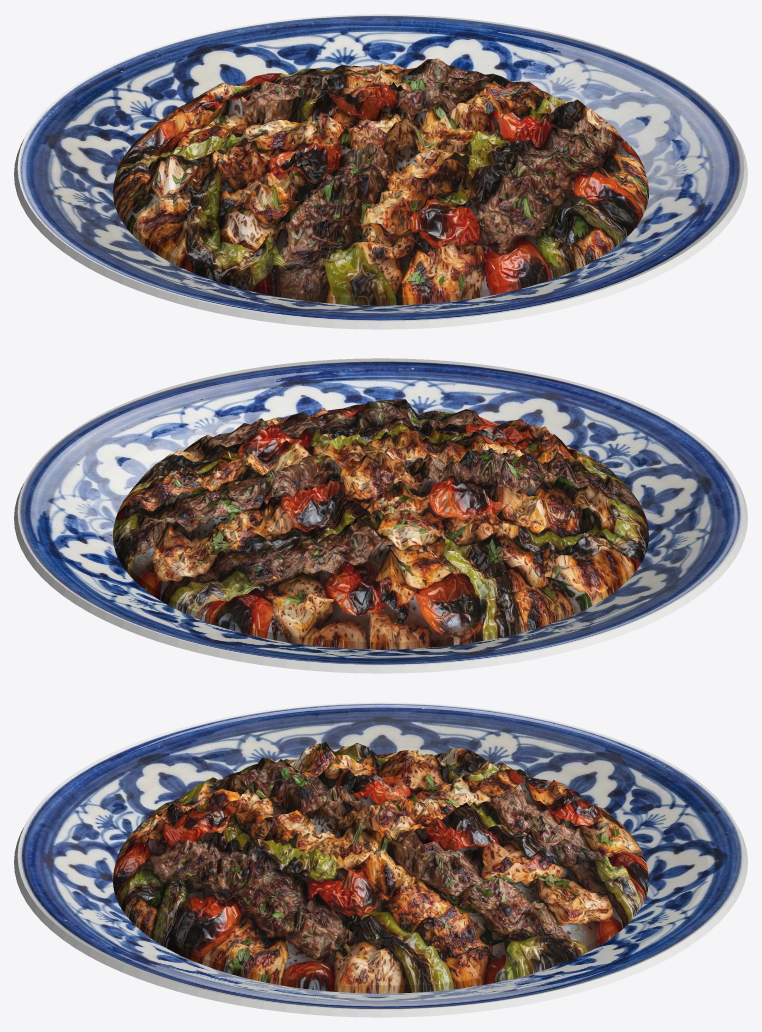
The model's file is tovuq.glb.
3 views of the same model, one above another, from view 1: azimuth 30°, elevation 25°; view 2: azimuth 150°, elevation 25°; view 3: azimuth 270°, elevation 25° (orthographic).
Parts seen in each view (by area): view 1: tovuq_2, tovuq_0, tovuq_1; view 2: tovuq_2, tovuq_0, tovuq_1; view 3: tovuq_2, tovuq_0, tovuq_1.
Part boxes in pixels (x1=…): tovuq_2: x1=113, y1=58, x2=648, y2=305; tovuq_0: x1=17, y1=14, x2=744, y2=321; tovuq_1: x1=14, y1=138, x2=747, y2=329; tovuq_2: x1=113, y1=399, x2=648, y2=649; tovuq_0: x1=17, y1=358, x2=744, y2=665; tovuq_1: x1=14, y1=482, x2=747, y2=673; tovuq_2: x1=113, y1=741, x2=648, y2=993; tovuq_0: x1=17, y1=702, x2=744, y2=1009; tovuq_1: x1=14, y1=826, x2=747, y2=1017.
Size of the model in its own units: 0.303 by 0.045 by 0.303.
3 materials, 2 textured.
